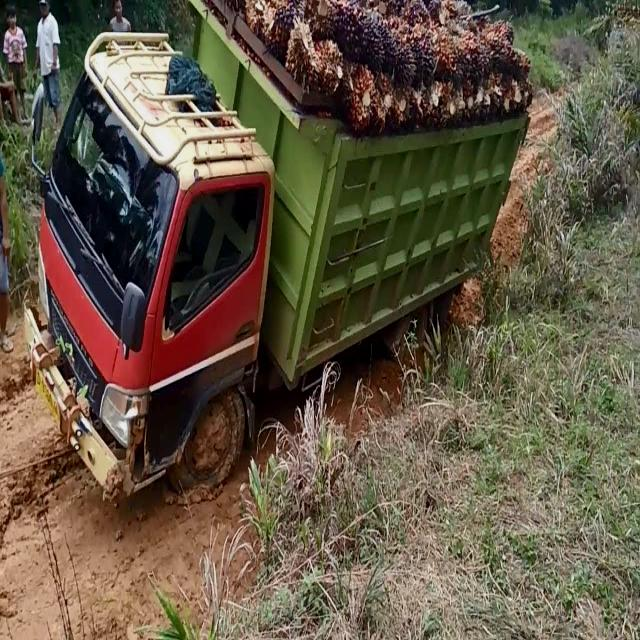truck: (26, 1, 535, 523)
